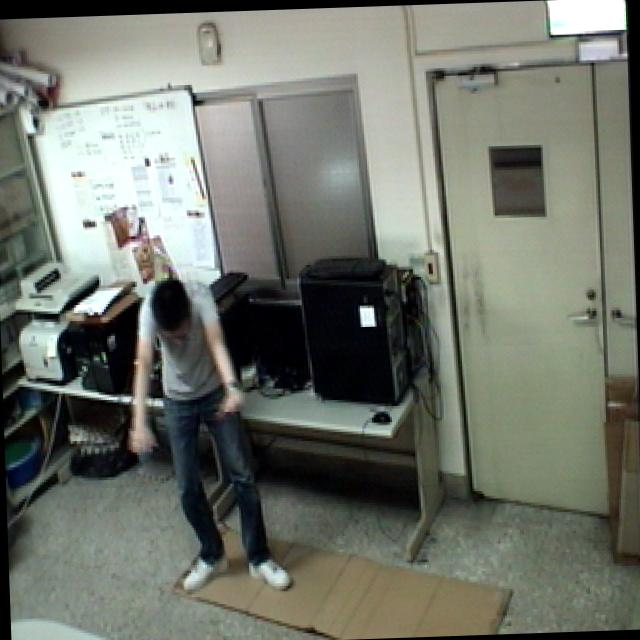bend: (118, 269, 295, 608)
